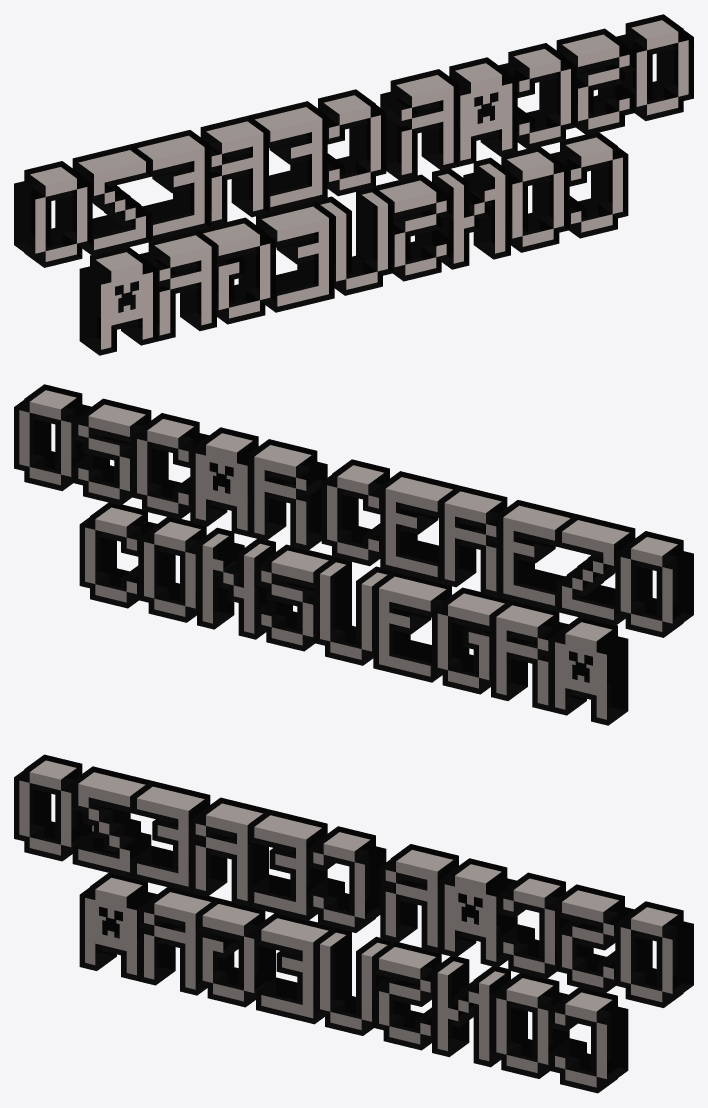
File: Oscar2.gltf
3 views of the same model, one above another, from view 1: azimuth 30°, elevation 25°; view 2: azimuth 150°, elevation 25°; view 3: azimuth 330°, elevation 25° (orthographic).
Visible parts, largest first — view 1: cube (×64); view 2: cube (×64); view 3: cube (×73).
Boxes of the visible parts, x1,y1,x2,y2 form: cube (×64): [14, 14, 693, 355]; cube (×64): [14, 384, 693, 725]; cube (×73): [14, 754, 693, 1093].
Size of the model in its own units: 23.88 by 6.38 by 1.25.
Materials: 1 (1 with a texture image).
